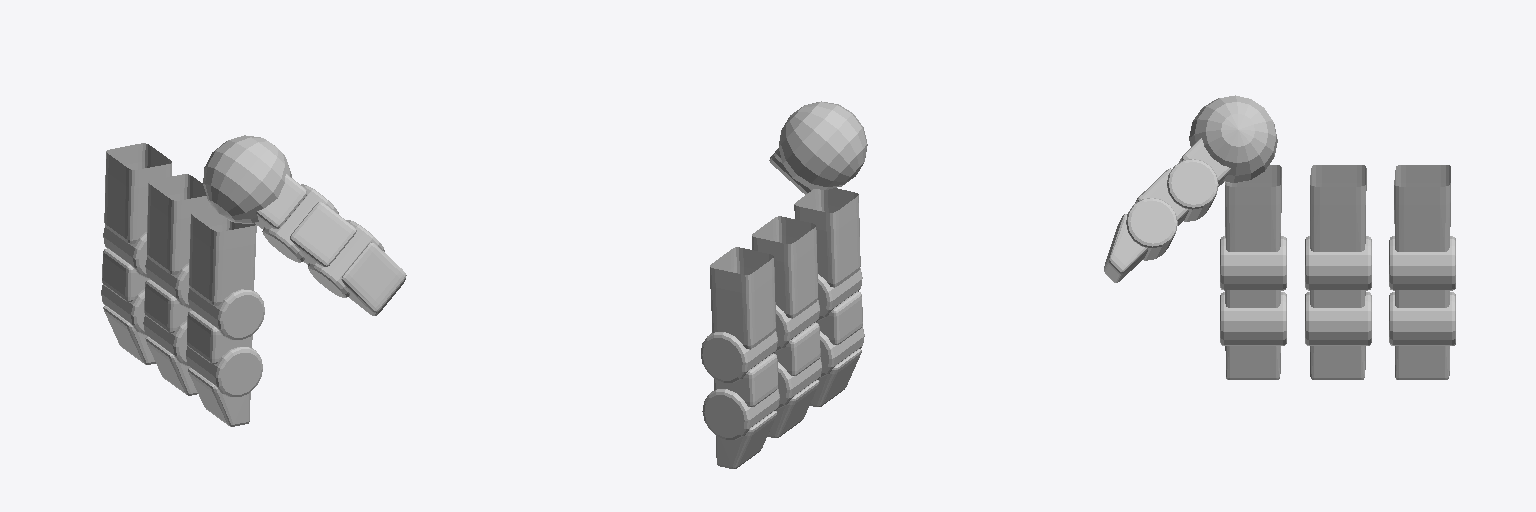
File: Dedos_Izquierdos.obj
The picture shows the model from 3 angles: view 1: azimuth 30°, elevation 25°; view 2: azimuth 150°, elevation 25°; view 3: azimuth 270°, elevation 25°; orthographic projection.
Parts seen in each view (by area): view 1: rig_test.008; view 2: rig_test.008; view 3: rig_test.008.
Part boxes in pixels (bbox=[...]): rig_test.008: bbox=[101, 135, 406, 426]; rig_test.008: bbox=[701, 101, 867, 468]; rig_test.008: bbox=[1104, 95, 1455, 379].
Bounding box in the file's own units: 17.98 × 34.41 × 39.02.